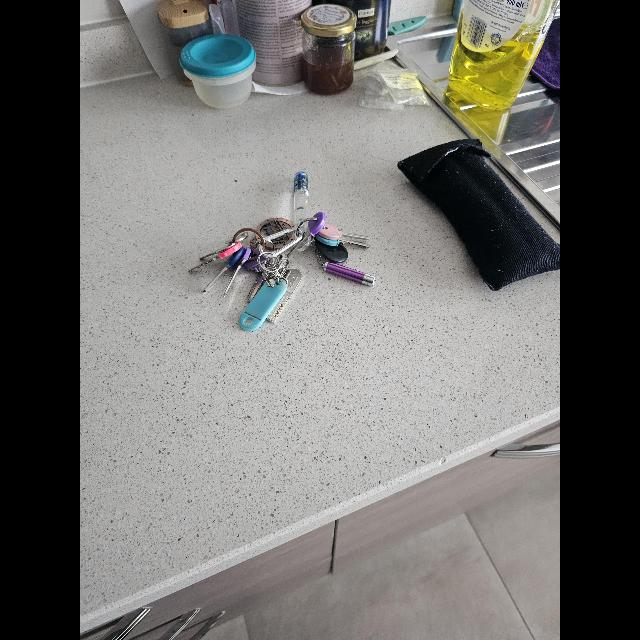Keys: (192, 218, 310, 296), (308, 212, 378, 286), (187, 232, 251, 272)
